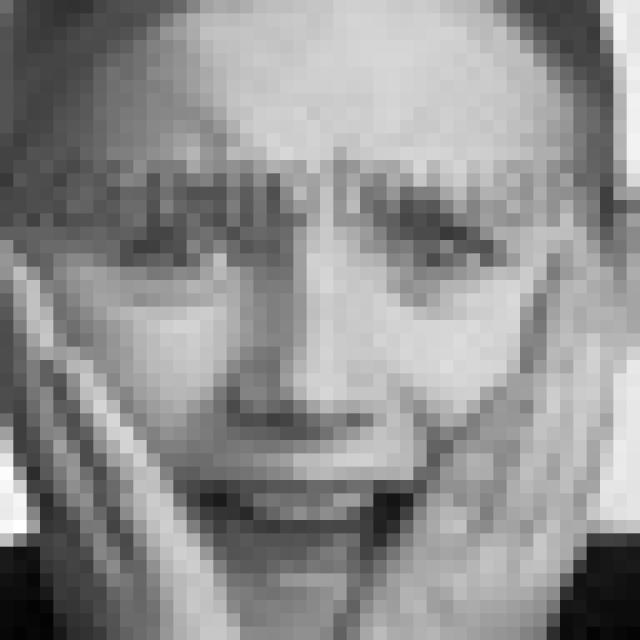fear: (99, 160, 523, 582)
